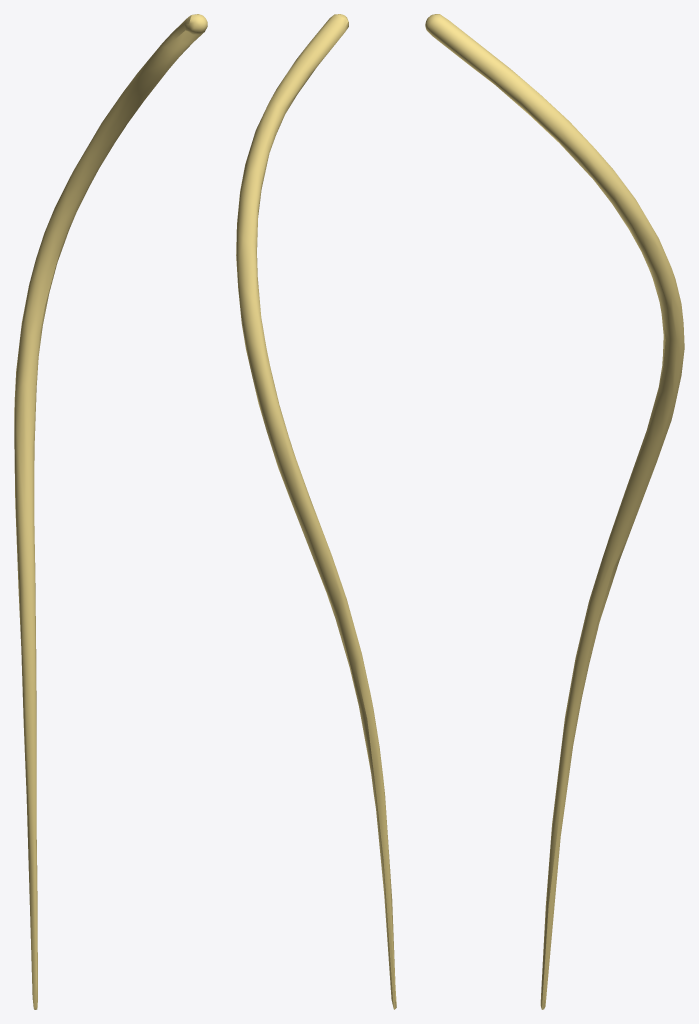
File: fma37071_fj4172.glb
The picture shows the model from 3 angles, left to right: view 1: azimuth 30°, elevation 25°; view 2: azimuth 150°, elevation 25°; view 3: azimuth 270°, elevation 25°; orthographic projection. The views are drawn at different scales.
Parts seen in each view (by area): view 1: FMA37071_FJ4172; view 2: FMA37071_FJ4172; view 3: FMA37071_FJ4172.
Part boxes in pixels (<box>): FMA37071_FJ4172: <box>14,14,207,1009</box>; FMA37071_FJ4172: <box>236,14,396,1009</box>; FMA37071_FJ4172: <box>425,14,684,1009</box>.
Bounding box in the file's own units: 0.0164 × 0.1091 × 0.0244.
